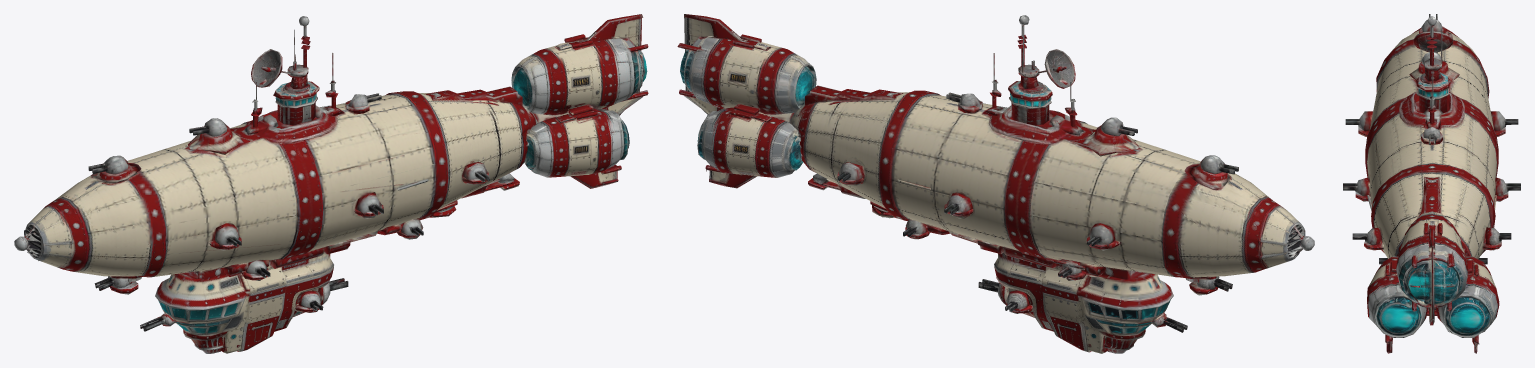
File: fortress.fbx
The picture shows the model from 3 angles, left to right: view 1: azimuth 30°, elevation 25°; view 2: azimuth 150°, elevation 25°; view 3: azimuth 270°, elevation 25°; orthographic projection. The views are drawn at different scales.
Parts seen in each view (by area): view 1: Mesh_0; view 2: Mesh_0; view 3: Mesh_0.
Part boxes in pixels (left/top/right/bottom): Mesh_0: left=14, top=14, right=648, bottom=353; Mesh_0: left=677, top=14, right=1314, bottom=353; Mesh_0: left=1343, top=14, right=1520, bottom=353.
Bounding box in the file's own units: 95.12 × 45.51 × 25.05.
1 material, 1 textured.
